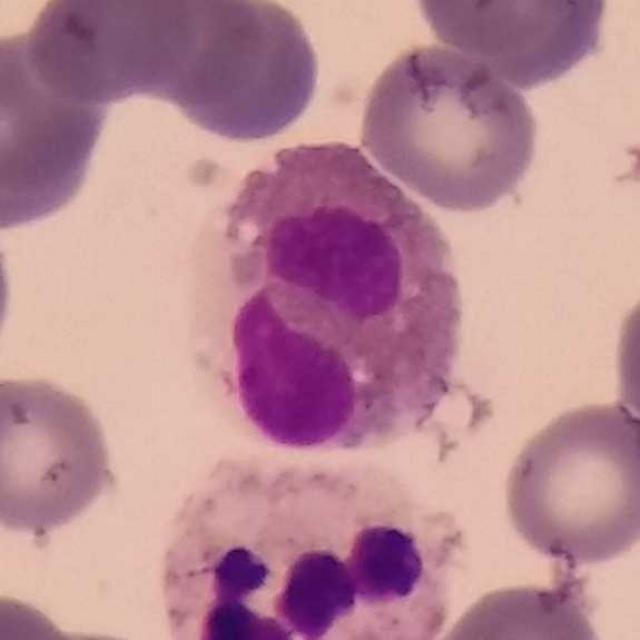Eosinophil: (202, 143, 482, 455)
Neutrophil: (140, 445, 465, 640)
RBC: (354, 39, 544, 214), (0, 19, 116, 236), (497, 396, 640, 567), (170, 0, 326, 146), (0, 368, 122, 537), (25, 2, 192, 108), (408, 0, 616, 85), (131, 1, 277, 106), (426, 577, 609, 640), (607, 271, 640, 454), (0, 587, 80, 640), (0, 201, 19, 383)
